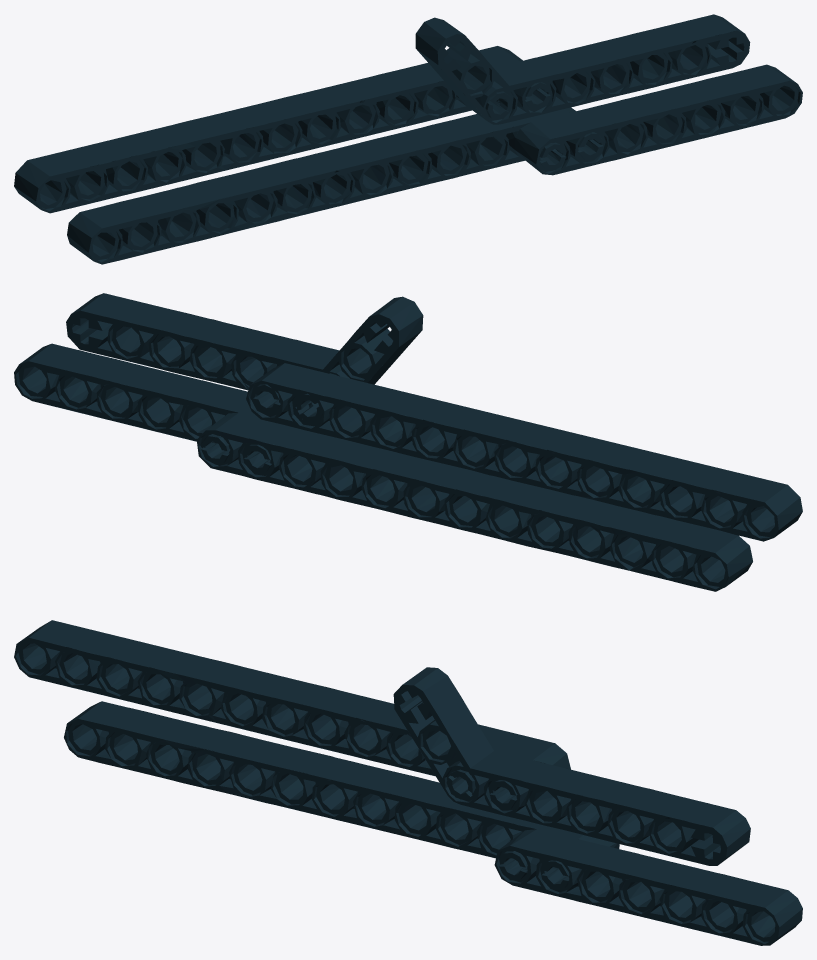
Rendered from bobb3e_arm_left.dae.
3 renders of one model, top to bottom at view 1: azimuth 30°, elevation 25°; view 2: azimuth 150°, elevation 25°; view 3: azimuth 330°, elevation 25°, orthographic. The views are drawn at different scales.
Visible parts, largest first — view 1: Technic_Pin_with_Friction_and_Slots__72; view 2: Technic_Pin_with_Friction_and_Slots__72; view 3: Technic_Pin_with_Friction_and_Slots__72.
Part boxes in pixels (x1,y1,x2,y2): Technic_Pin_with_Friction_and_Slots__72: (14,14,802,264); Technic_Pin_with_Friction_and_Slots__72: (14,293,802,591); Technic_Pin_with_Friction_and_Slots__72: (14,620,802,945).
Bounding box in the file's own units: 0.1534 × 0.0173 × 0.0324.
